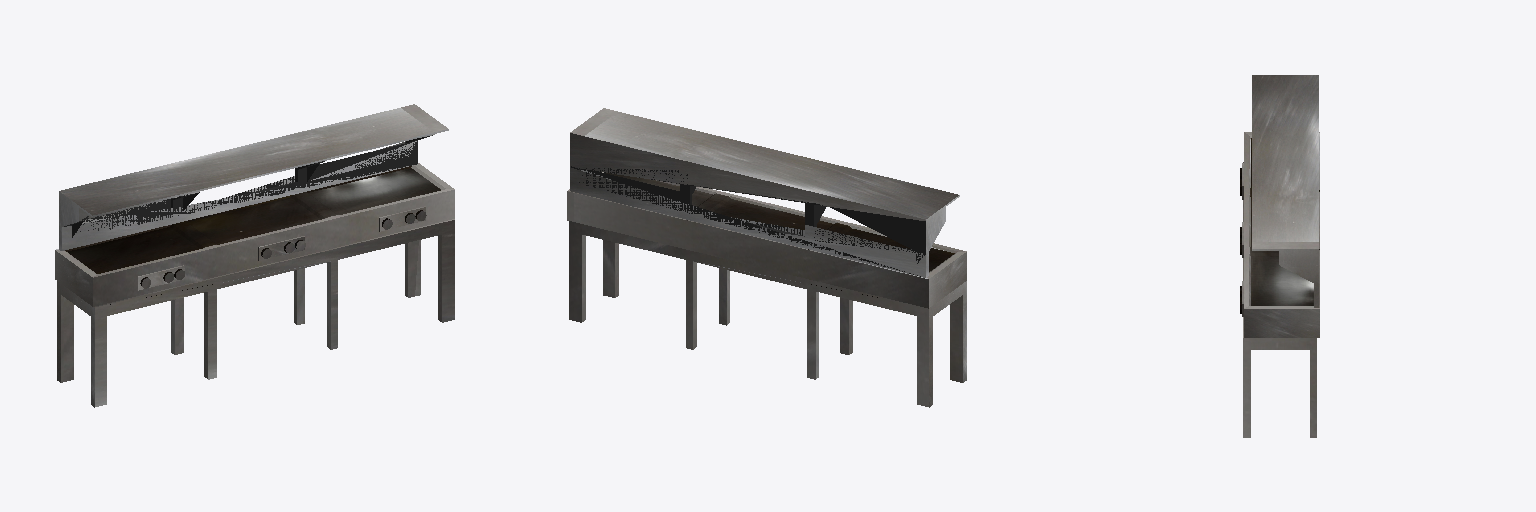
3 renders of one model, left to right at view 1: azimuth 30°, elevation 25°; view 2: azimuth 150°, elevation 25°; view 3: azimuth 270°, elevation 25°, orthographic.
Parts seen in each view (by area): view 1: FlatTopGrill.obj; view 2: FlatTopGrill.obj; view 3: FlatTopGrill.obj.
Part boxes in pixels (left/top/right/bottom): FlatTopGrill.obj: left=55, top=104, right=454, bottom=407; FlatTopGrill.obj: left=567, top=108, right=966, bottom=407; FlatTopGrill.obj: left=1240, top=75, right=1319, bottom=437.
Size of the model in its own units: 19.52 by 9.69 by 3.78.
Materials: 1 (1 with a texture image).